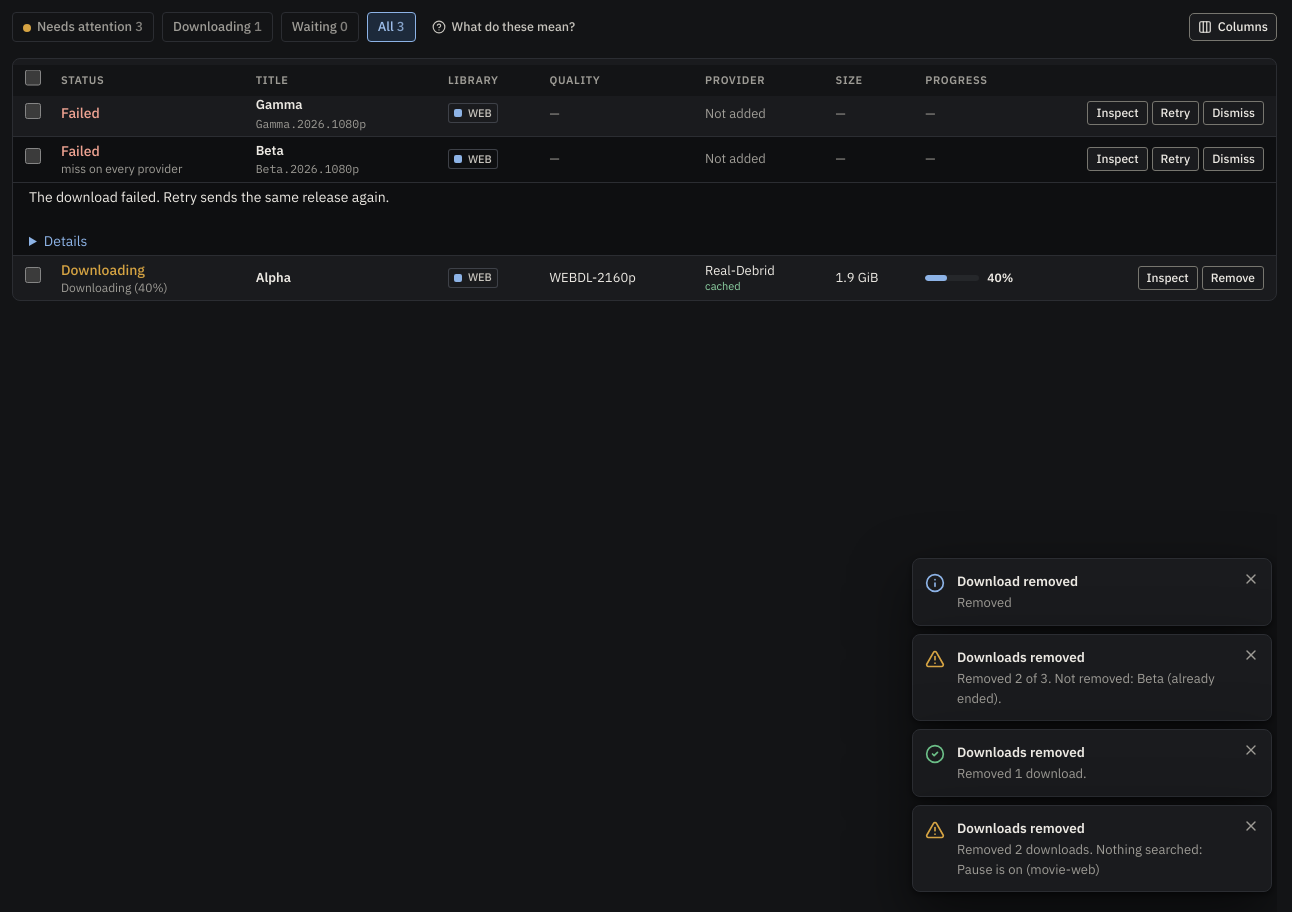
Test case: opens the download ?open= names, and closing it drops the parameter
Expected: the number of elements with test id "download-open" is 1, left=29, top=188, right=389, bottom=250
Click the button with test id "download-details": point(1118, 159) left=1088, top=147, right=1148, bottom=171
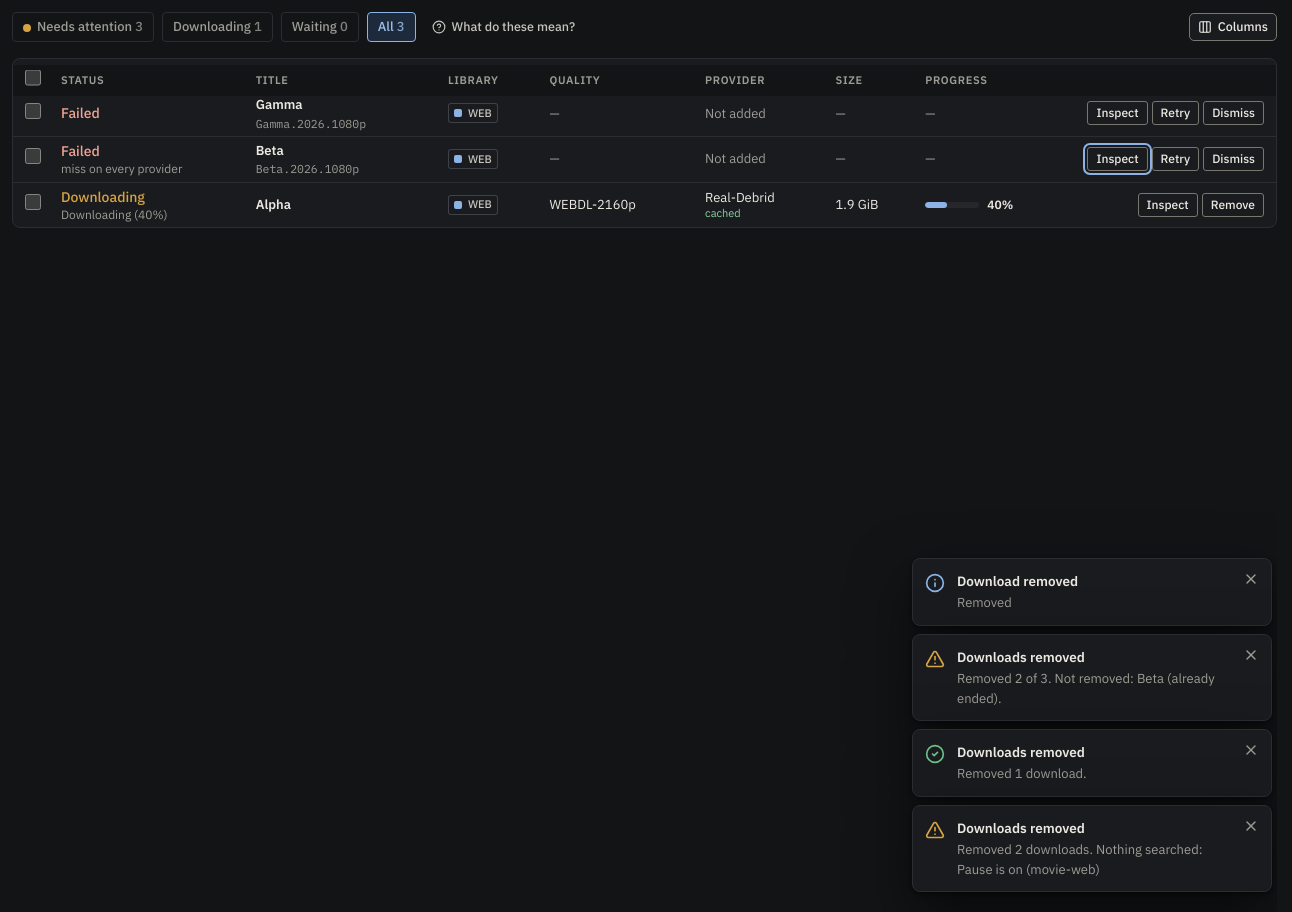
Expected: the element with test id "download-open" is gone
